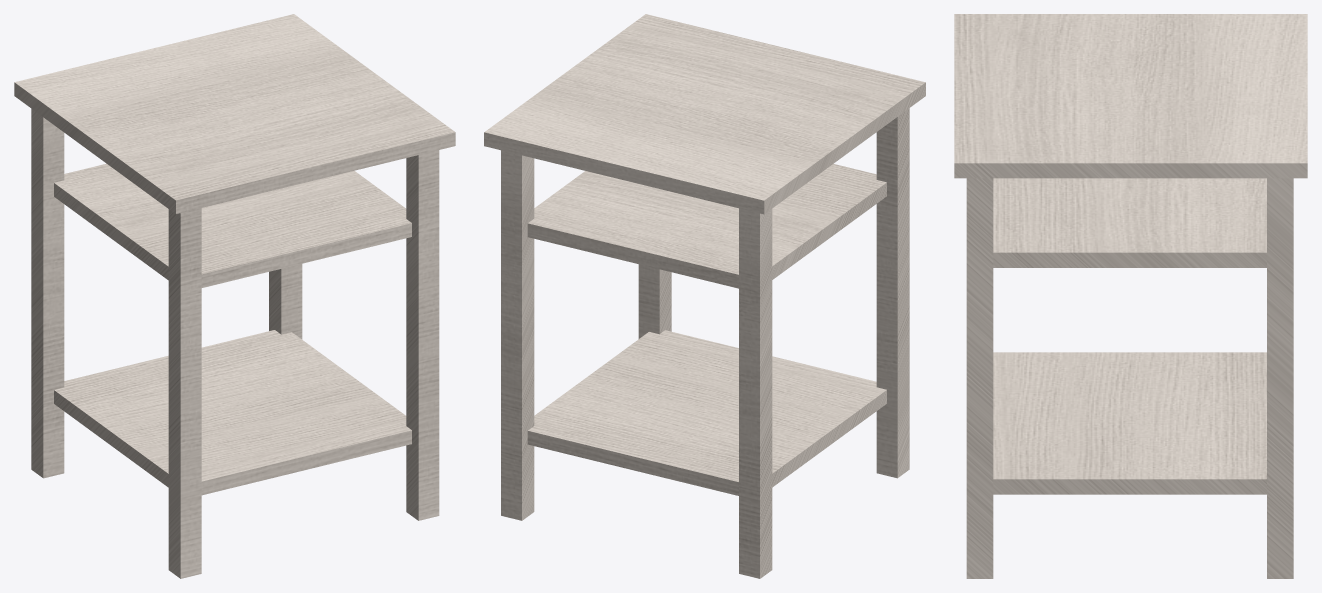
The model's file is side-table.obj.
3 views of the same model, side by side, from view 1: azimuth 30°, elevation 25°; view 2: azimuth 150°, elevation 25°; view 3: azimuth 270°, elevation 25° (orthographic). The views are drawn at different scales.
Visible parts, largest first — view 1: side-table.001; view 2: side-table.001; view 3: side-table.001.
Part boxes in pixels (bbox=[...]): side-table.001: bbox=[14, 14, 455, 578]; side-table.001: bbox=[484, 14, 925, 578]; side-table.001: bbox=[954, 14, 1307, 578].
Bounding box in the file's own units: 0.8809 × 1.16 × 0.8809.
1 material, 1 textured.
